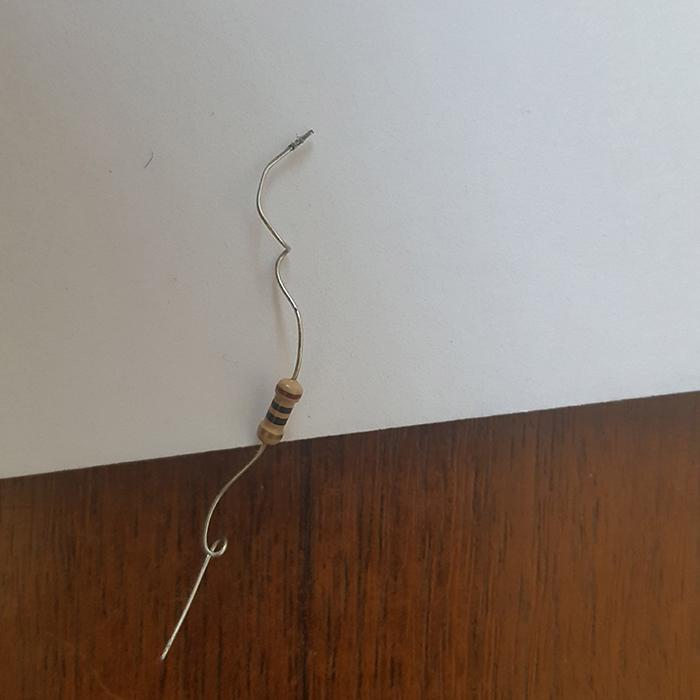resistor: (257, 377, 303, 445)
